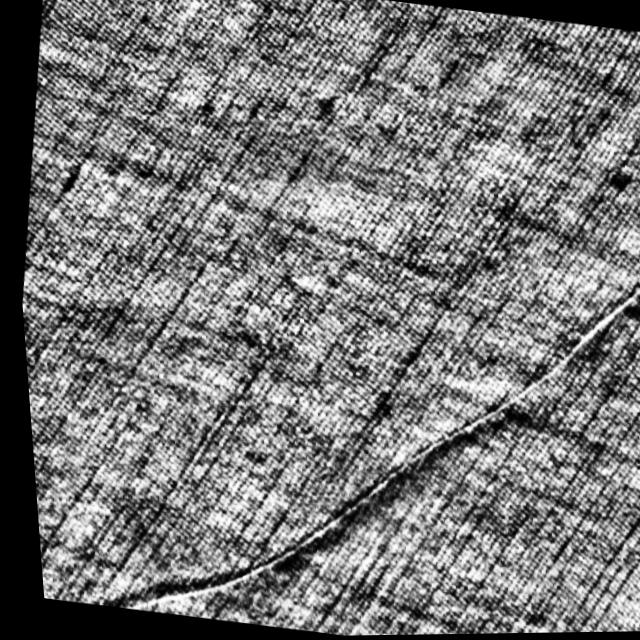Stitch: (56, 549, 237, 625), (288, 450, 415, 551), (453, 338, 583, 422), (576, 259, 640, 326)
